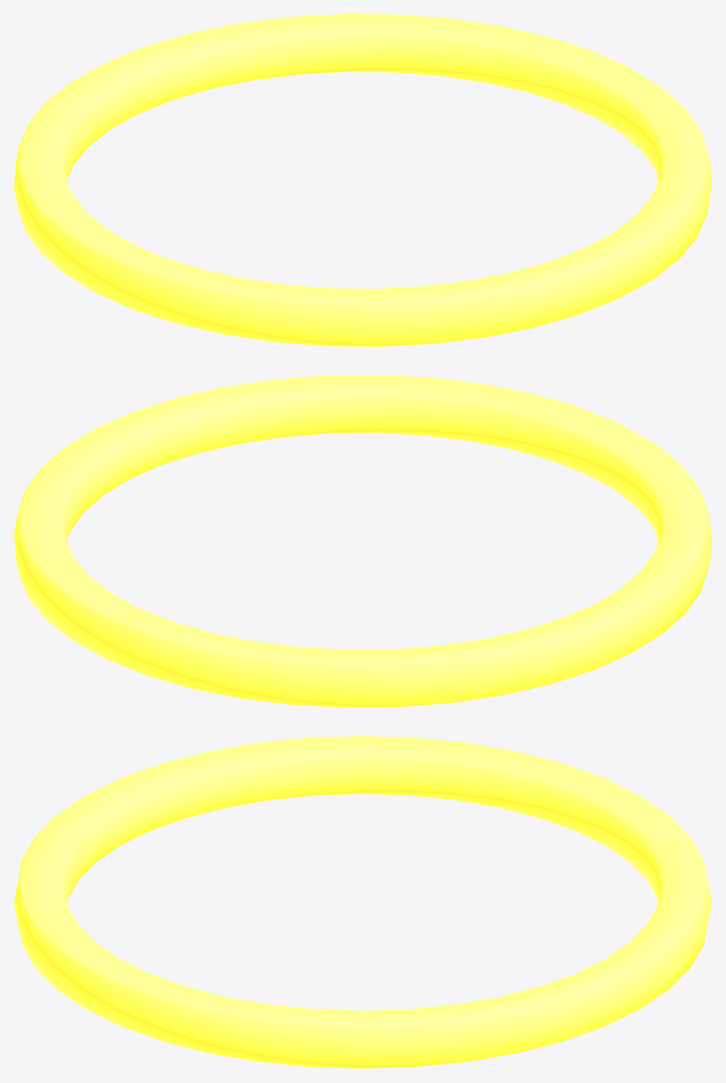
Rendered from Angel Ring.fbx.
3 renders of one model, top to bottom at view 1: azimuth 30°, elevation 25°; view 2: azimuth 150°, elevation 25°; view 3: azimuth 270°, elevation 25°, orthographic.
Visible parts, largest first — view 1: AngelRing; view 2: AngelRing; view 3: AngelRing.
Part boxes in pixels (left/top/right/bottom): AngelRing: left=14, top=14, right=711, bottom=346; AngelRing: left=14, top=375, right=711, bottom=707; AngelRing: left=14, top=736, right=711, bottom=1068.
Bounding box in the file's own units: 36.44 × 2.53 × 36.45.
